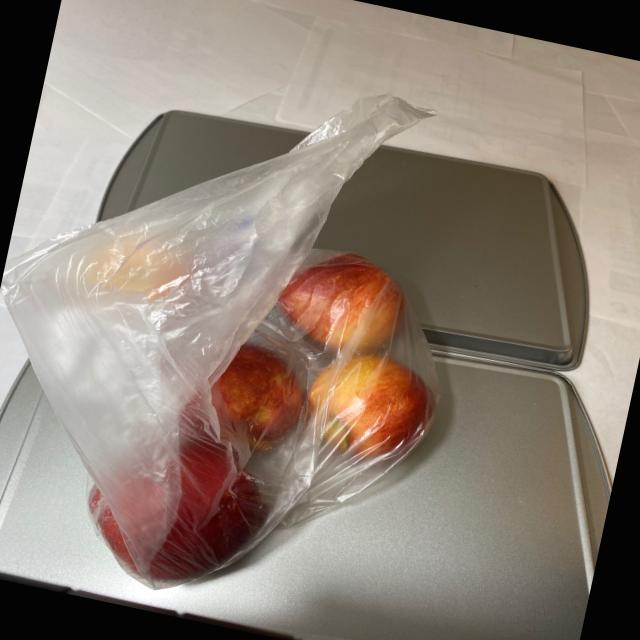apple: (64, 196, 468, 638)
